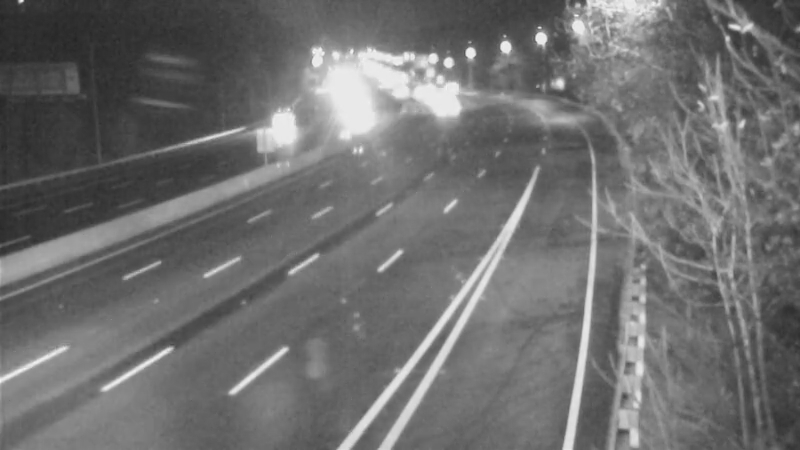vehicle: (375, 68, 425, 118), (405, 73, 455, 123), (420, 83, 470, 133), (251, 104, 301, 154), (329, 90, 379, 140)
